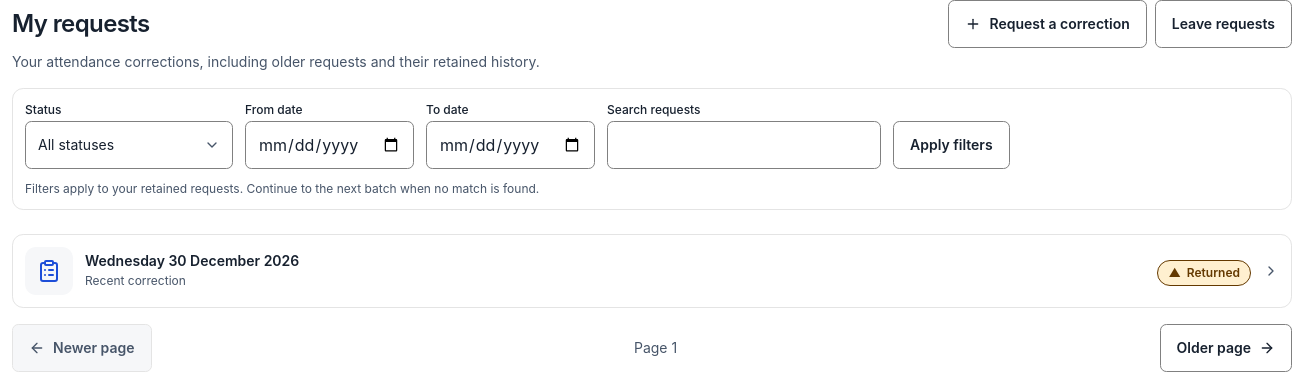
Test: browses older correction pages and opens the exact request record
What coordinates should you click on to do the following:
click the button "Older page"
I would click on:
 (1226, 348)
Its box is [1160,324,1292,372].
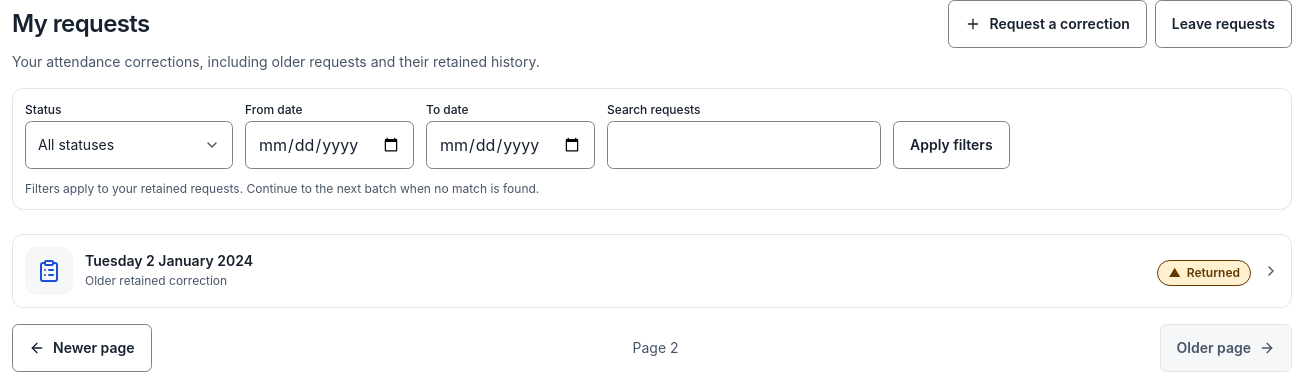
expect the button "Older page" is disabled: met, box [1160,324,1292,372]
What coordinates should you click on to do the following:
click the button "Newer page"
I would click on:
 (82, 348)
Its box is [12,324,152,372].
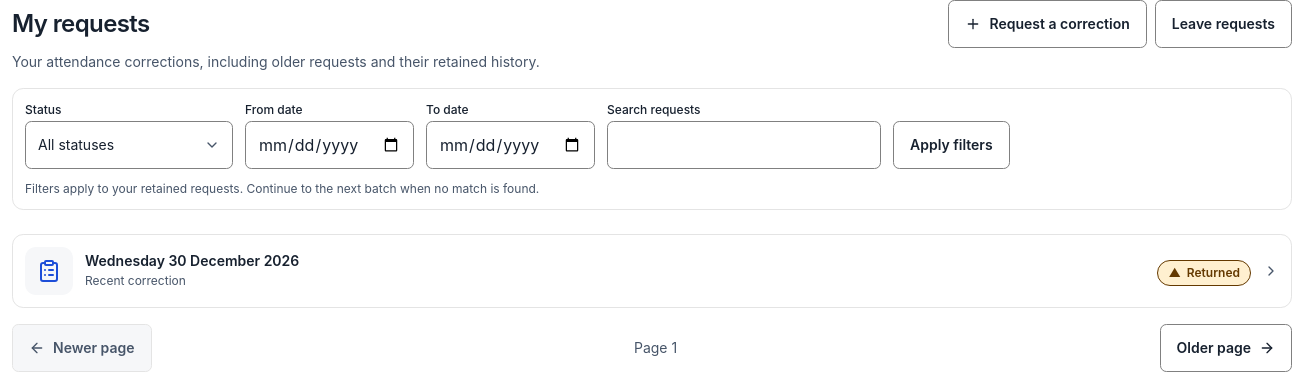
expect the text "Recent correction" is shown: met, box [85,273,186,288]
